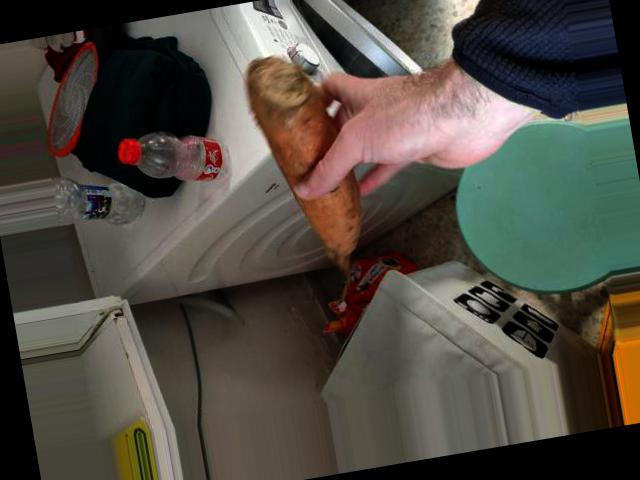sweet_potato: (255, 50, 358, 286)
